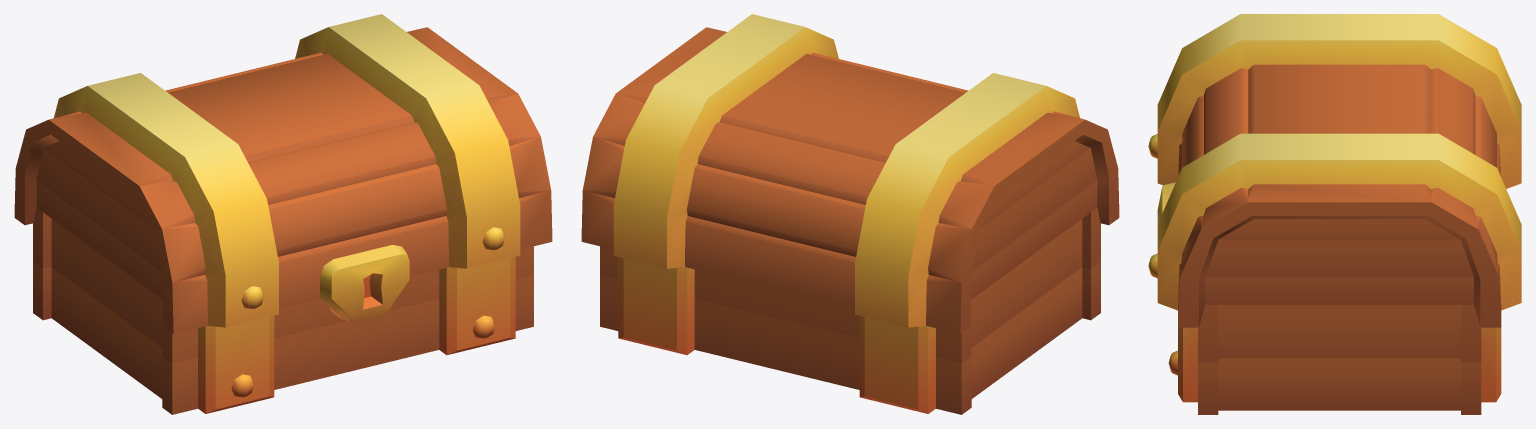
Rendered from chest_large.glb.
The picture shows the model from 3 angles, left to right: view 1: azimuth 30°, elevation 25°; view 2: azimuth 150°, elevation 25°; view 3: azimuth 270°, elevation 25°; orthographic projection.
Parts seen in each view (by area): view 1: chest_large_lid, chest_large; view 2: chest_large_lid, chest_large; view 3: chest_large_lid, chest_large.
Part boxes in pixels (x1,y1,x2,y2): chest_large_lid: (14, 14, 552, 334); chest_large: (33, 207, 533, 414); chest_large_lid: (581, 14, 1119, 334); chest_large: (600, 207, 1100, 414); chest_large_lid: (1148, 14, 1521, 327); chest_large: (1168, 305, 1501, 414).
Size of the model in its own units: 2.2 by 1.3 by 1.85.
Materials: 1 (1 with a texture image).
